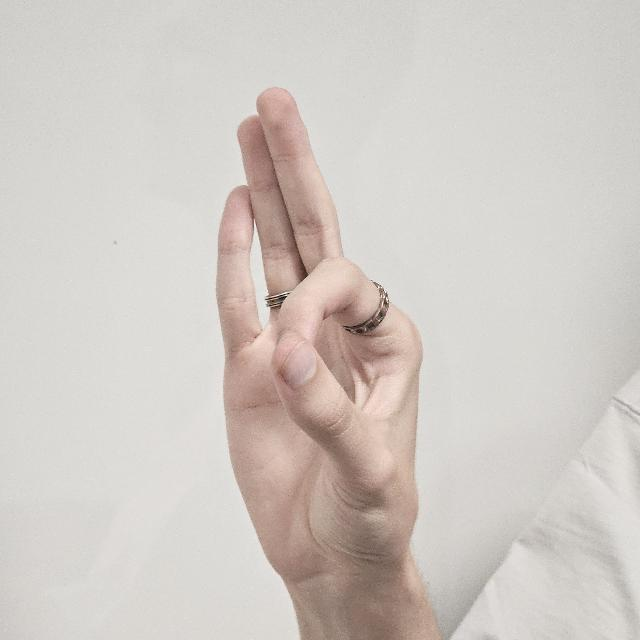Bolinha: (215, 91, 425, 578)
